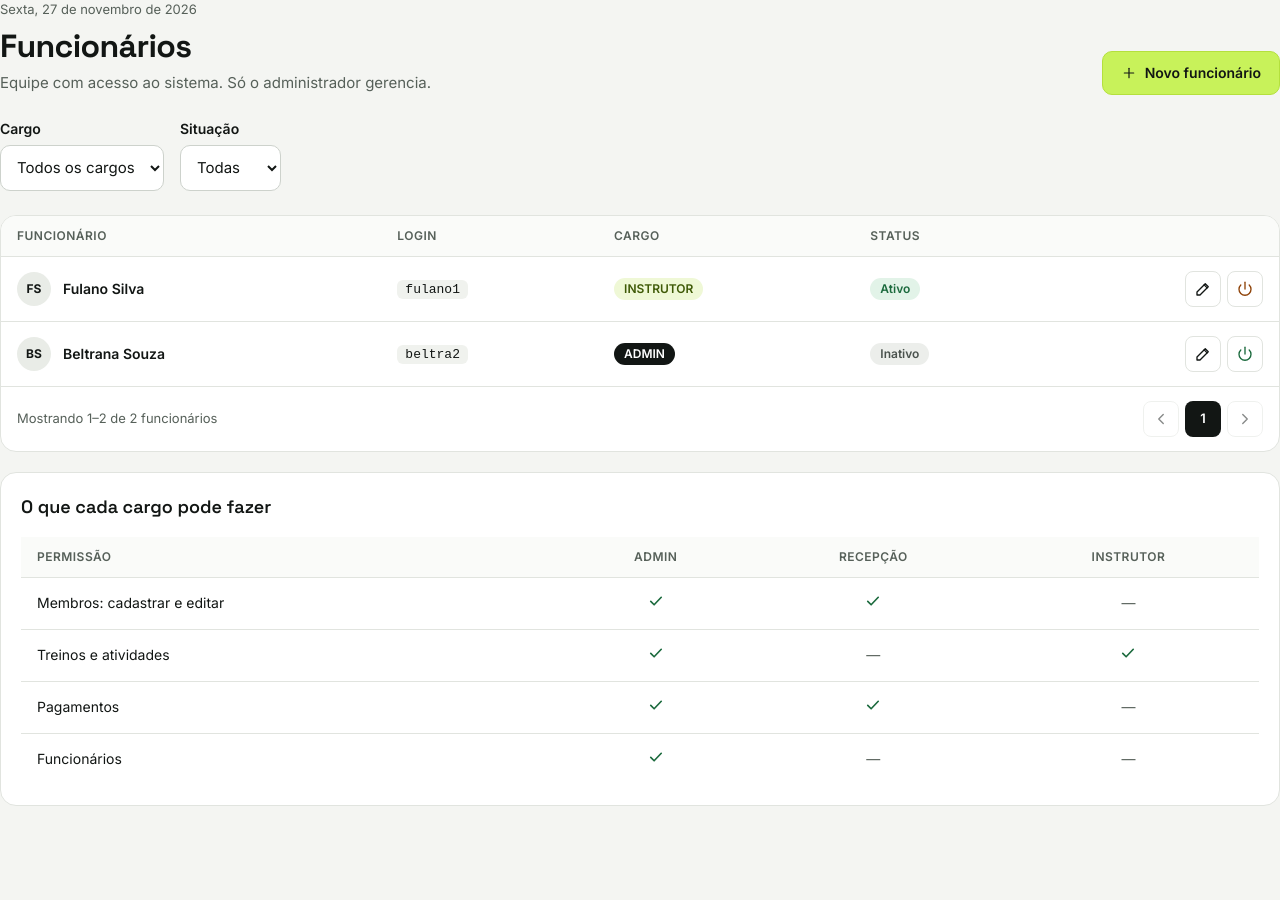
it: TelaFuncionarios › abre o formulário de edição preenchido e fecha em Cancelar
Expected: the text "Fulano Silva" is shown, [63,278,144,298]
Click the button named "Editar Fulano Silva": [1203, 288] box [1185,270,1221,306]
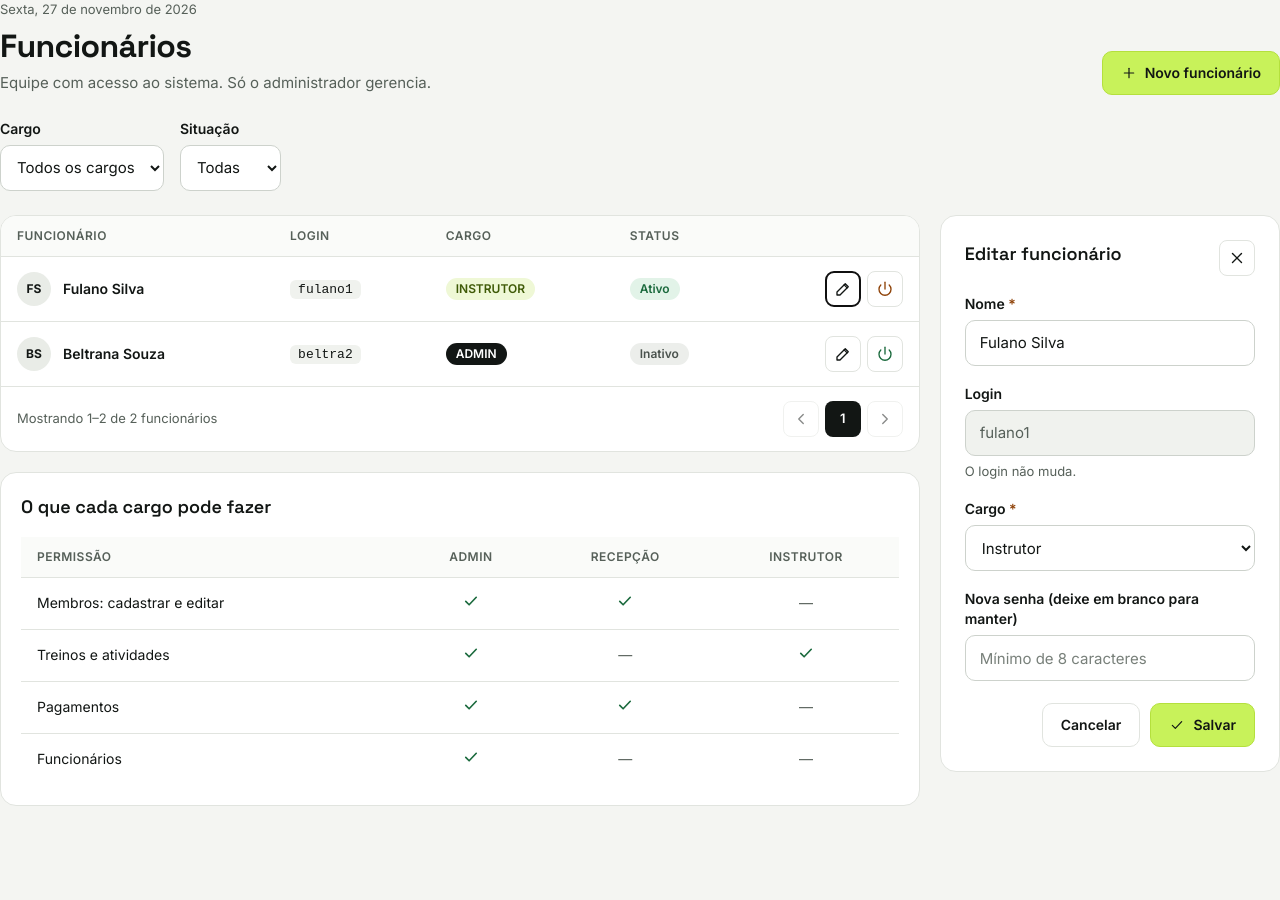
Expected: the field labelled "Nome" holds "Fulano Silva", [965,320,1255,366]
Expected: the field labelled "Login" is disabled, [965,410,1255,456]
Click the button "Cancelar": [1091, 725] box [1042,703,1140,747]
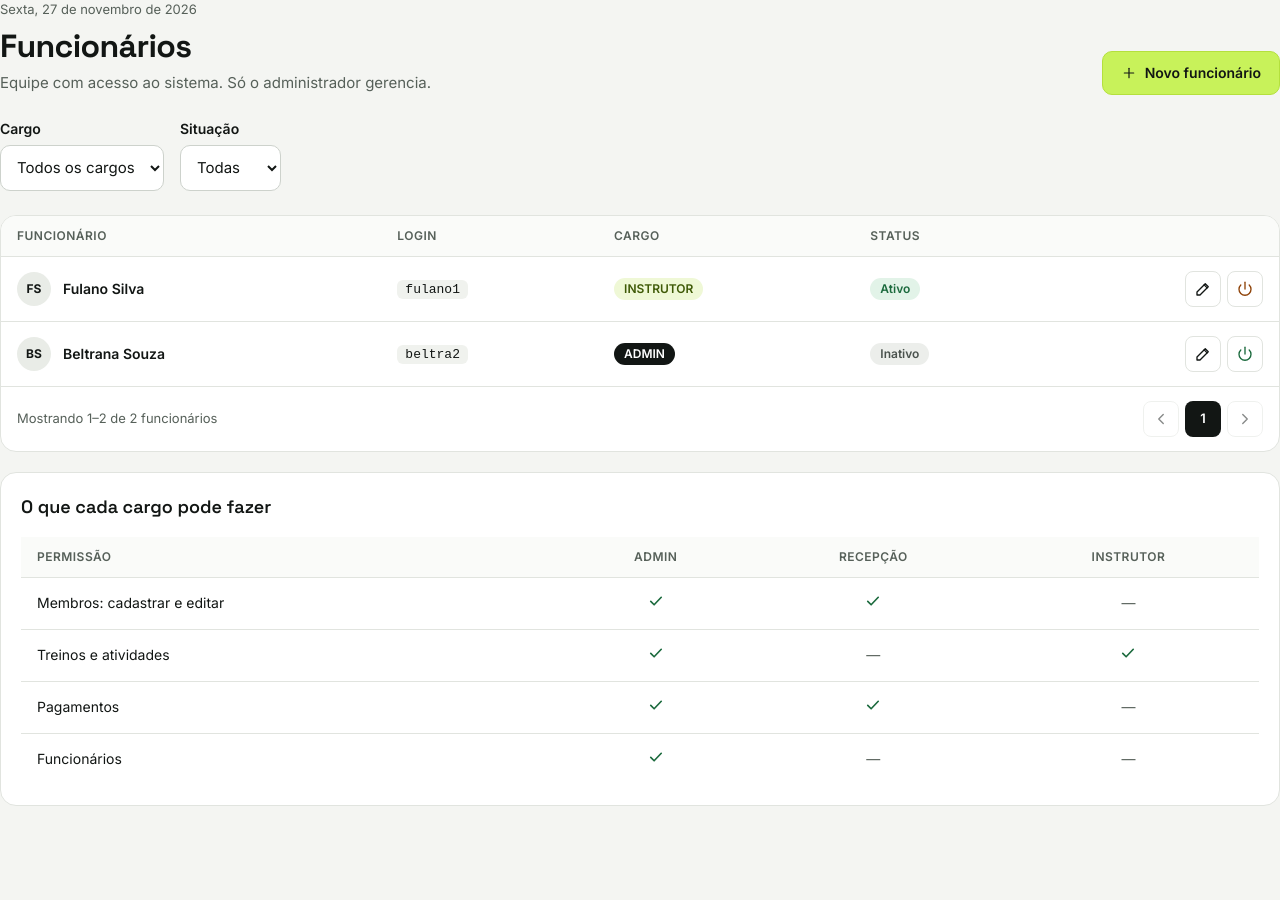
Expected: the dialog is gone
